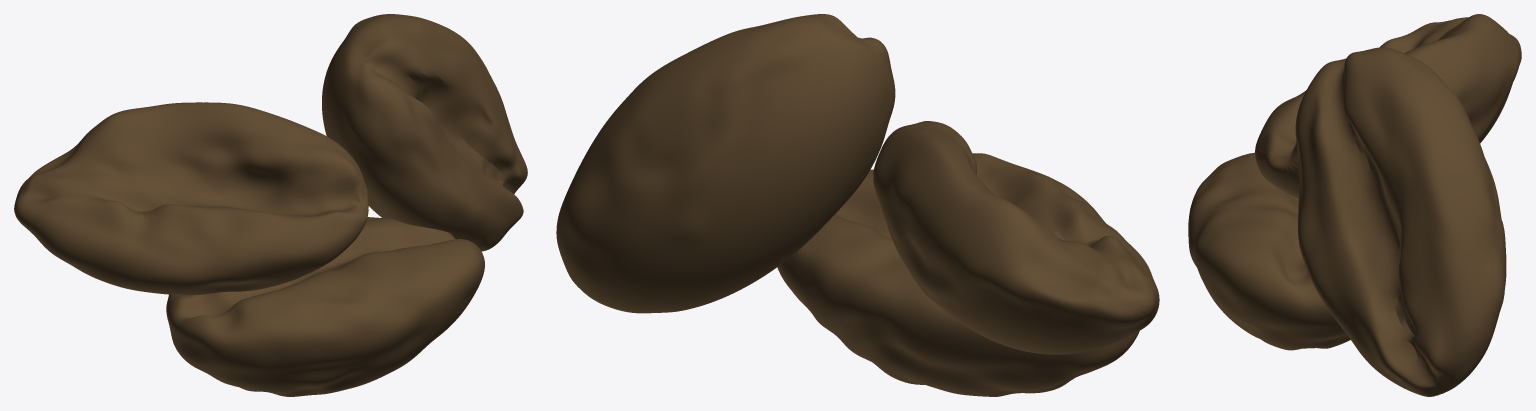
Rendered from cof.gltf.
3 views of the same model, side by side, from view 1: azimuth 30°, elevation 25°; view 2: azimuth 150°, elevation 25°; view 3: azimuth 270°, elevation 25° (orthographic). The views are drawn at different scales.
Visible parts, largest first — view 1: Bean_3, Bean_1, Bean_2; view 2: Bean_2, Bean_3, Bean_1; view 3: Bean_2, Bean_1, Bean_3.
Part boxes in pixels (box(x1,y1,x2,y2)): Bean_3: box(14, 102, 368, 295); Bean_1: box(166, 217, 484, 396); Bean_2: box(322, 14, 527, 251); Bean_2: box(556, 14, 895, 313); Bean_3: box(873, 121, 1159, 354); Bean_1: box(777, 169, 1139, 396); Bean_2: box(1295, 47, 1506, 396); Bean_1: box(1188, 152, 1350, 350); Bean_3: box(1255, 14, 1521, 198).
Bounding box in the file's own units: 4.58 × 2.7 × 2.5.
